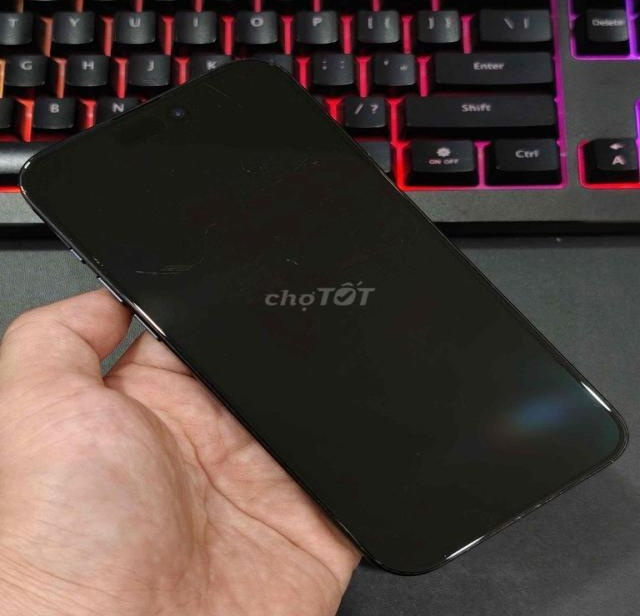scratch: (93, 195, 237, 296), (213, 125, 354, 205), (481, 469, 590, 545), (120, 69, 277, 121), (274, 246, 328, 288)
